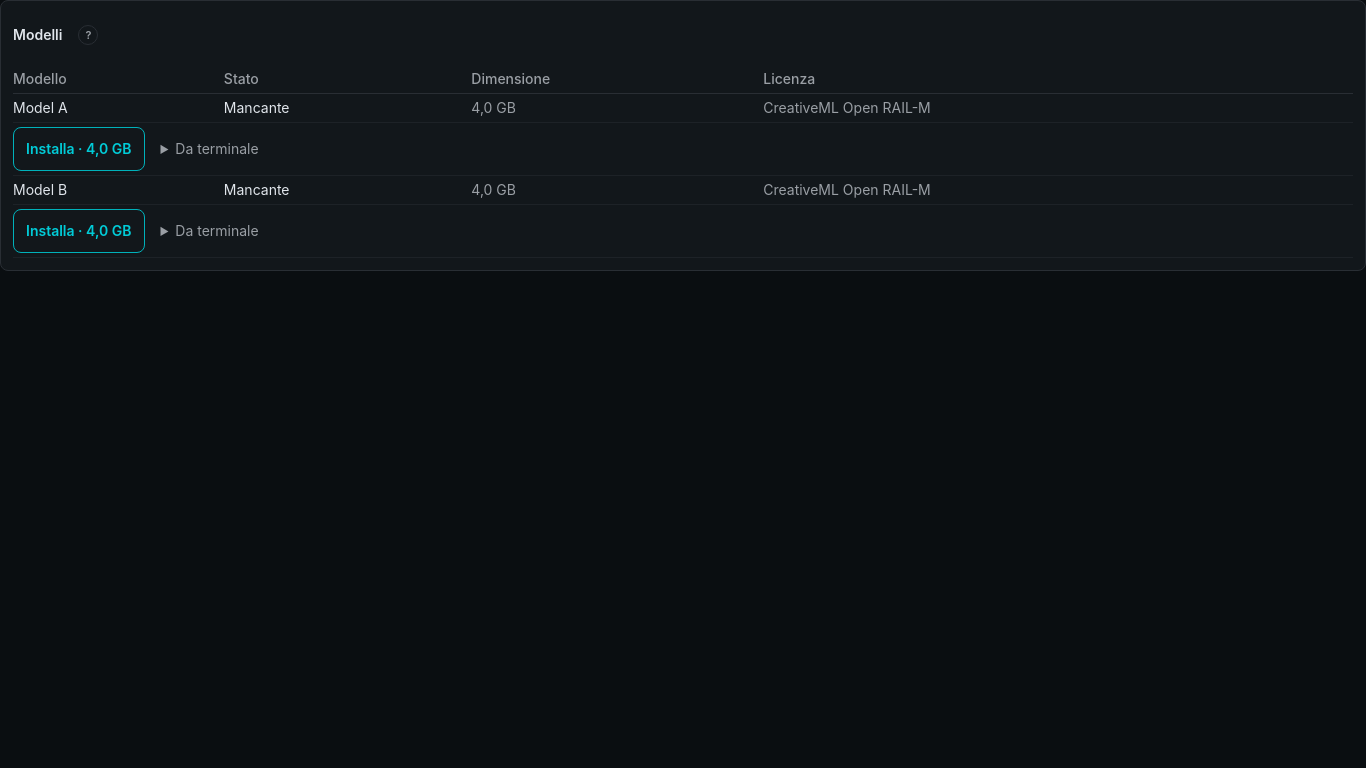
it: ModelsTable › disables the other model's download while one is in progress
Click the 1st button "Installa · 4,0 GB". click: (79, 149)
box: [13,127,144,171]
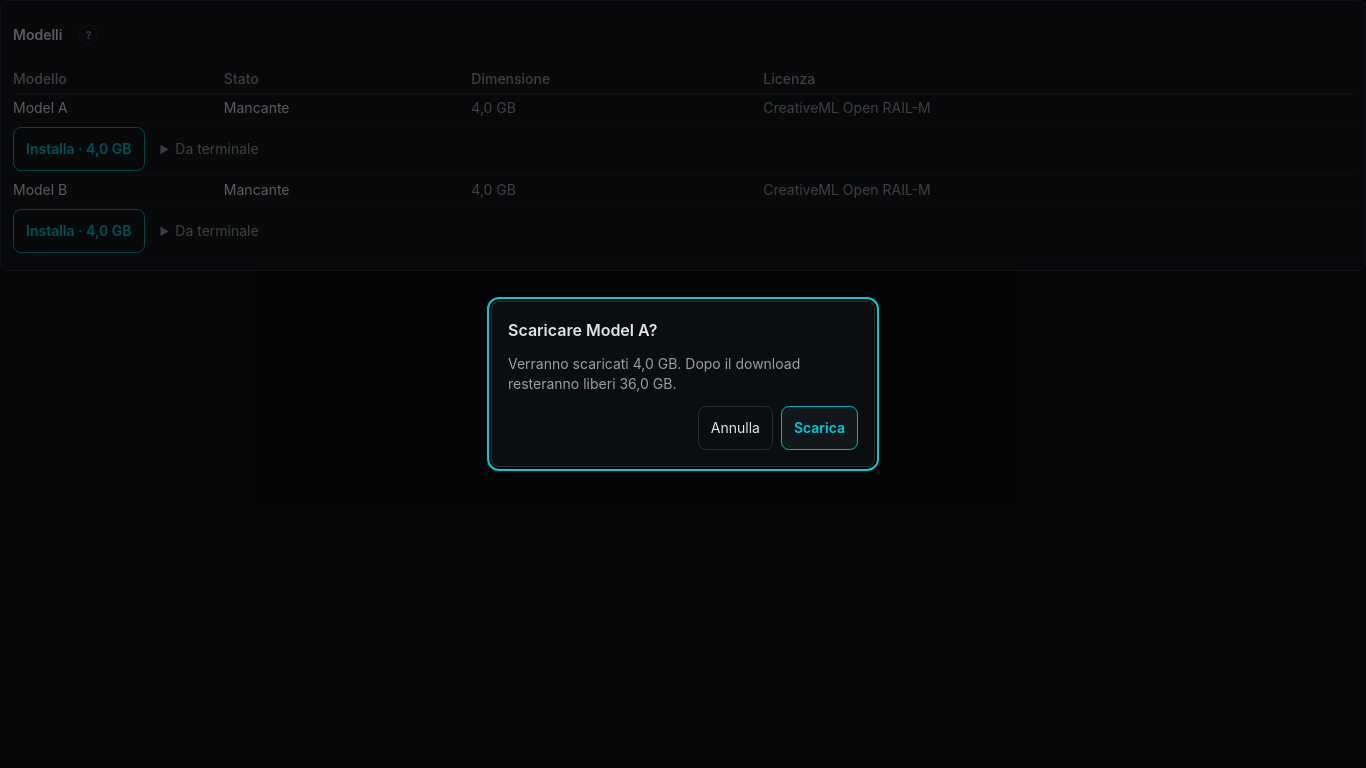
Click the button "Scarica". click: (819, 428)
box: [781,406,858,450]
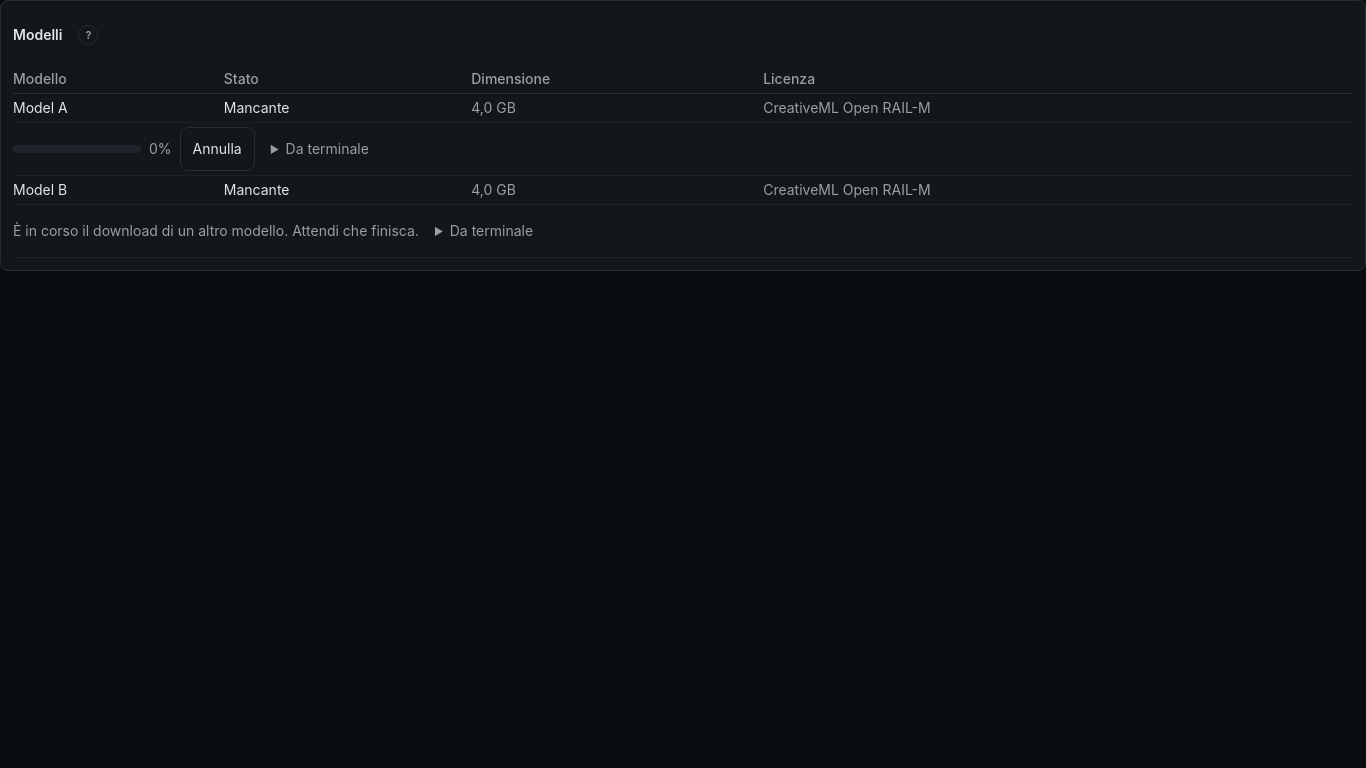
Expected: the text "È in corso il download di un altro modello. Attendi che finisca." is shown, [13,221,419,241]
